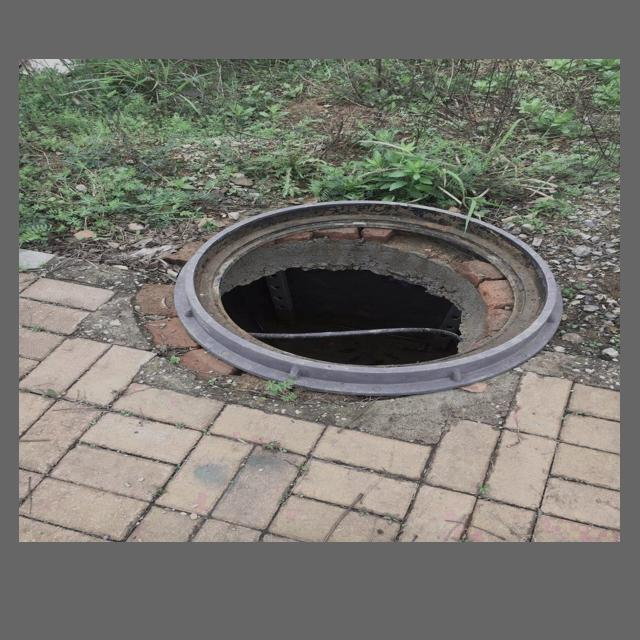lose: (173, 200, 566, 397)
